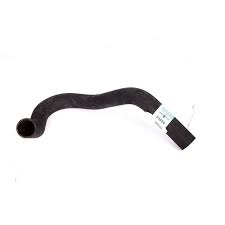radiator_hose: (18, 87, 195, 149)
